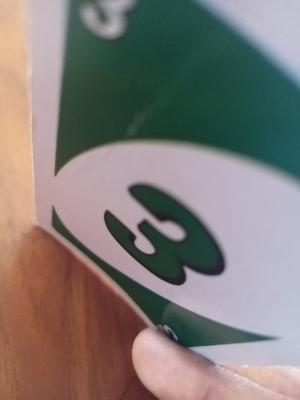green: (60, 0, 267, 135)
num_3: (102, 168, 250, 286)
